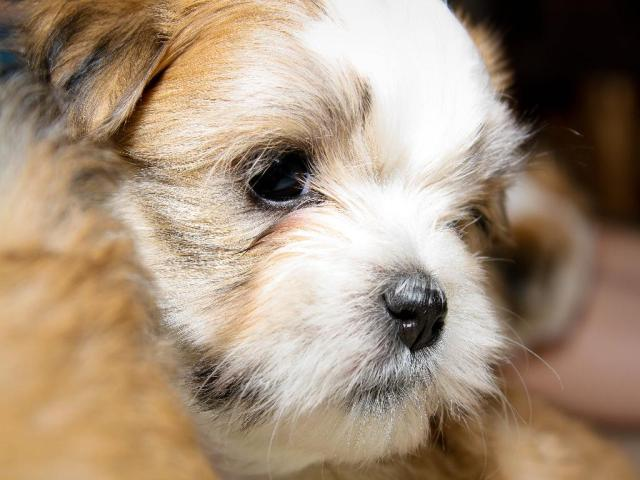Dog: (0, 0, 605, 480)
